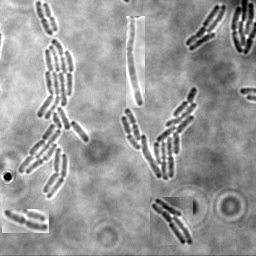Dividing: (126, 16, 145, 108), (2, 209, 49, 233), (34, 1, 52, 37), (41, 3, 57, 33)
Microcolony: (18, 40, 89, 199), (120, 87, 197, 181), (150, 197, 193, 245), (184, 5, 226, 52), (230, 1, 255, 56)
